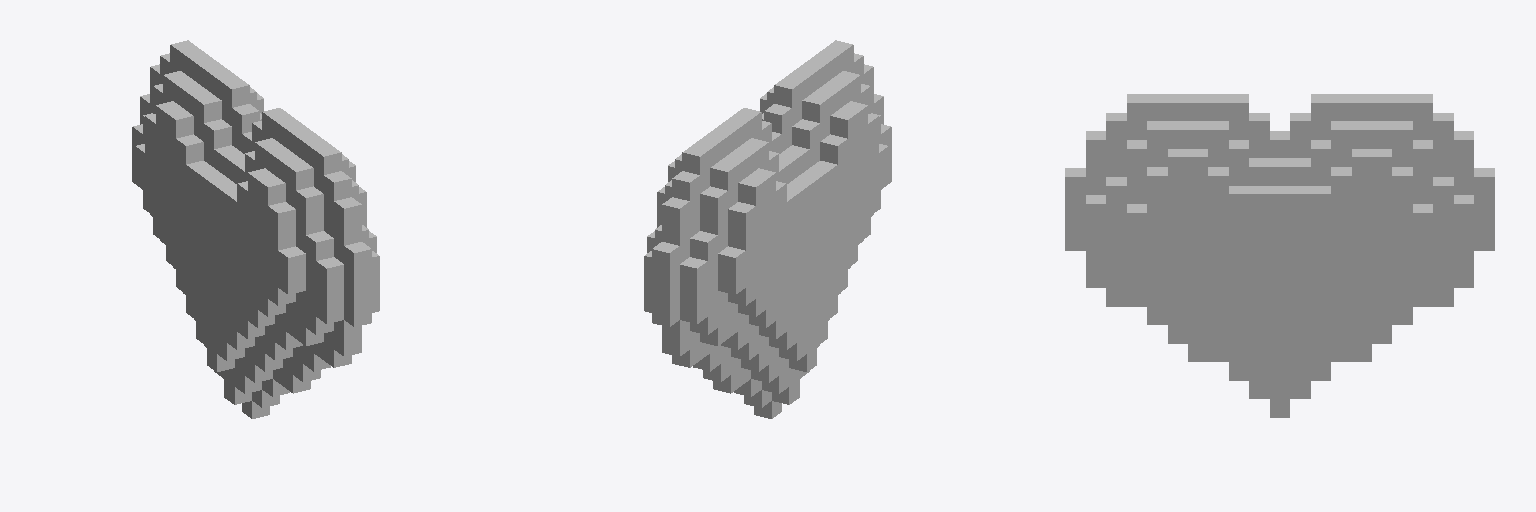
The model's file is heart.obj.
The picture shows the model from 3 angles: view 1: azimuth 30°, elevation 25°; view 2: azimuth 150°, elevation 25°; view 3: azimuth 270°, elevation 25°; orthographic projection.
Visible parts, largest first — view 1: object 1; view 2: object 1; view 3: object 1.
Boxes of the visible parts, x1=… form: object 1: x1=132, y1=40, x2=379, y2=418; object 1: x1=644, y1=40, x2=891, y2=418; object 1: x1=1065, y1=94, x2=1494, y2=417.
Bounding box in the file's own units: 0.5 × 1.7 × 2.1.